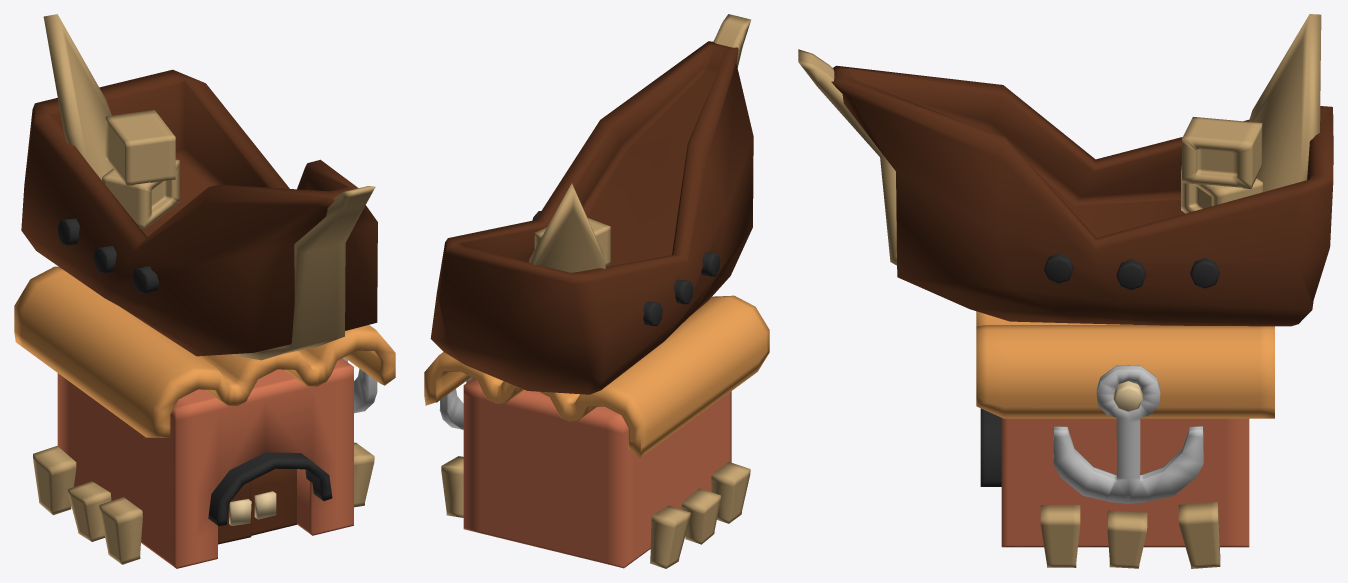
The model's file is boat_house01.fbx.
The picture shows the model from 3 angles, left to right: view 1: azimuth 30°, elevation 25°; view 2: azimuth 150°, elevation 25°; view 3: azimuth 270°, elevation 25°; orthographic projection. The views are drawn at different scales.
Visible parts, largest first — view 1: boat.001, boat_house01, roof, boat_pattern, side_columns, crate03, crate02, door_roof, crate01, door_R.001, Cylinders_boat, door_L.001 (+3 smaller); view 2: boat.001, boat_house01, roof, side_columns, crate03, Cylinders_boat, boat_pattern, Cube.008, crate02; view 3: boat.001, roof, boat_house01, Cube.008, crate03, side_columns, crate02, boat_pattern, Cylinders_boat, door_roof, crate01, cylinder_roof.
Boxes of the visible parts, x1,y1,x2,y2 form: boat.001: [21, 69, 377, 356]; boat_house01: [57, 358, 353, 568]; roof: [14, 266, 395, 437]; boat_pattern: [230, 186, 375, 360]; side_columns: [33, 442, 374, 564]; crate03: [43, 14, 112, 179]; crate02: [105, 110, 175, 186]; door_roof: [208, 452, 332, 525]; crate01: [102, 159, 179, 229]; door_R.001: [250, 468, 296, 535]; Cylinders_boat: [57, 218, 159, 293]; door_L.001: [218, 482, 251, 544]; boat.001: [430, 41, 753, 394]; boat_house01: [463, 378, 731, 568]; roof: [424, 295, 769, 457]; side_columns: [441, 456, 750, 568]; crate03: [529, 183, 605, 272]; Cylinders_boat: [532, 211, 720, 325]; boat_pattern: [713, 14, 750, 67]; Cube.008: [439, 377, 472, 429]; crate02: [534, 217, 610, 266]; boat.001: [831, 65, 1333, 326]; roof: [976, 311, 1274, 418]; boat_house01: [1001, 418, 1249, 547]; Cube.008: [1053, 365, 1203, 503]; crate03: [1249, 14, 1321, 192]; side_columns: [1040, 502, 1220, 568]; crate02: [1182, 117, 1262, 188]; boat_pattern: [798, 49, 896, 265]; Cylinders_boat: [1044, 253, 1219, 290]; door_roof: [980, 408, 1001, 486]; crate01: [1181, 166, 1262, 213]; cylinder_roof: [1113, 381, 1142, 412].
Size of the model in its own units: 467 by 717 by 752.
